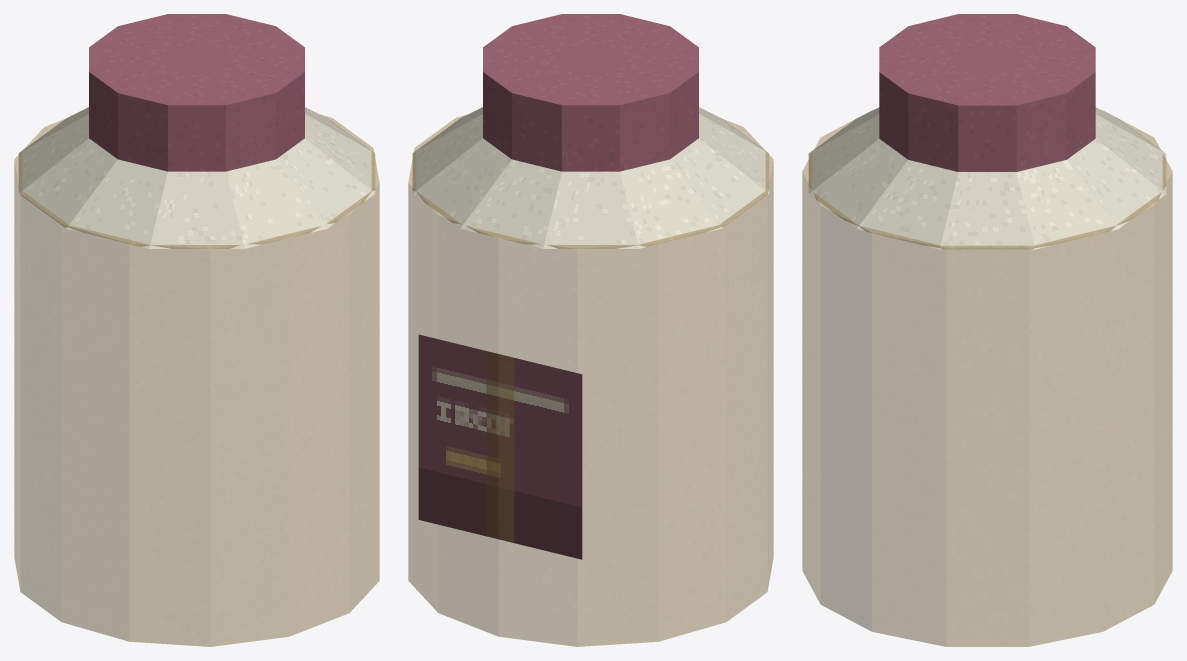
File: inj_iron.glb
The picture shows the model from 3 angles, left to right: view 1: azimuth 30°, elevation 25°; view 2: azimuth 150°, elevation 25°; view 3: azimuth 270°, elevation 25°; orthographic projection.
Visible parts, largest first — view 1: block_medical bottle, block_tapered shoulder, block_bottle cap; view 2: block_medical bottle, block_medicine label, block_tapered shoulder, block_bottle cap; view 3: block_medical bottle, block_tapered shoulder, block_bottle cap.
Part boxes in pixels (box(x1,y1,x2,y2)): block_medical bottle: box(14, 114, 379, 646); block_tapered shoulder: box(18, 107, 375, 248); block_bottle cap: box(89, 14, 304, 171); block_medical bottle: box(408, 115, 773, 646); block_medicine label: box(418, 334, 582, 559); block_tapered shoulder: box(412, 107, 769, 248); block_bottle cap: box(483, 14, 698, 171); block_medical bottle: box(802, 110, 1172, 646); block_tapered shoulder: box(808, 107, 1166, 249); block_bottle cap: box(879, 14, 1095, 171).
Size of the model in its own units: 0.0352 by 0.055 by 0.0361.
2 materials, 2 textured.
